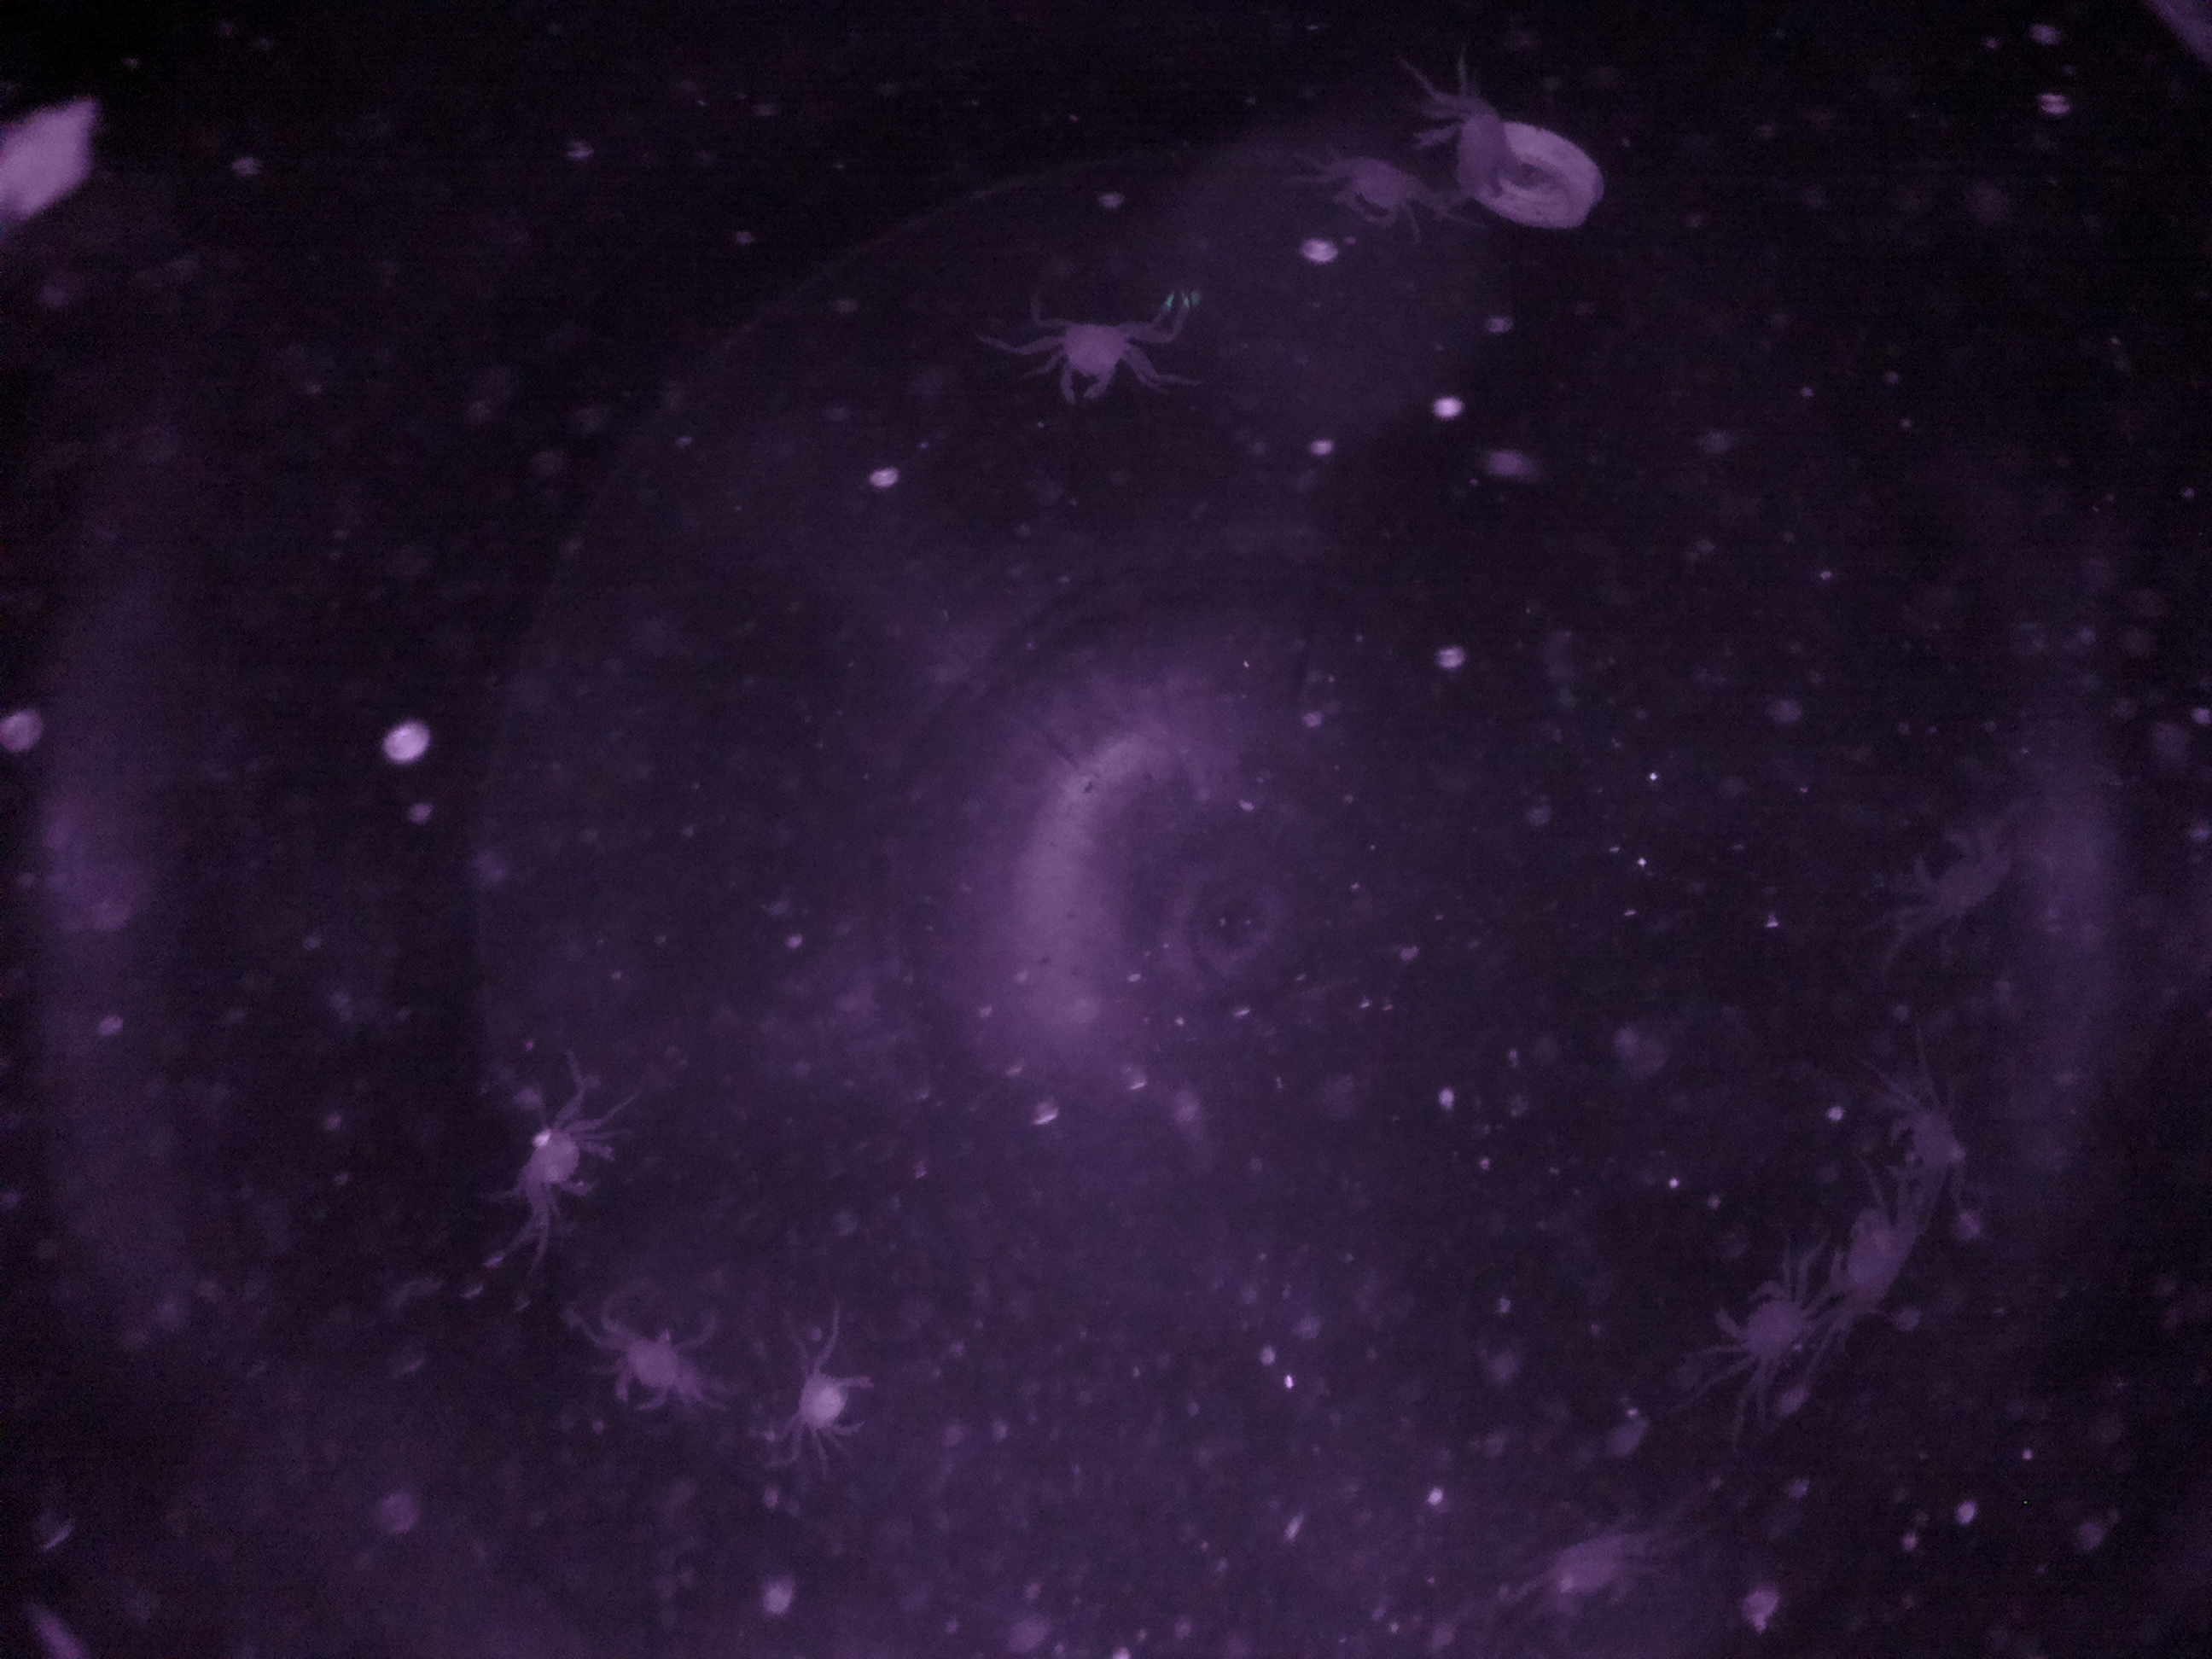Crab: (1808, 1204, 1923, 1344), (1893, 810, 2008, 943), (1042, 296, 1150, 416), (512, 1108, 632, 1215), (1707, 1263, 1820, 1375), (615, 1307, 698, 1431), (780, 1363, 888, 1450), (1338, 141, 1426, 242)
